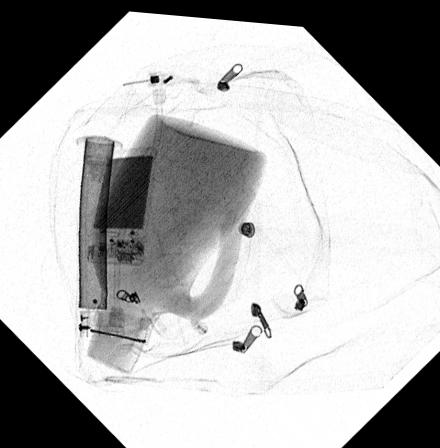Powerbank: (86, 146, 154, 263)
